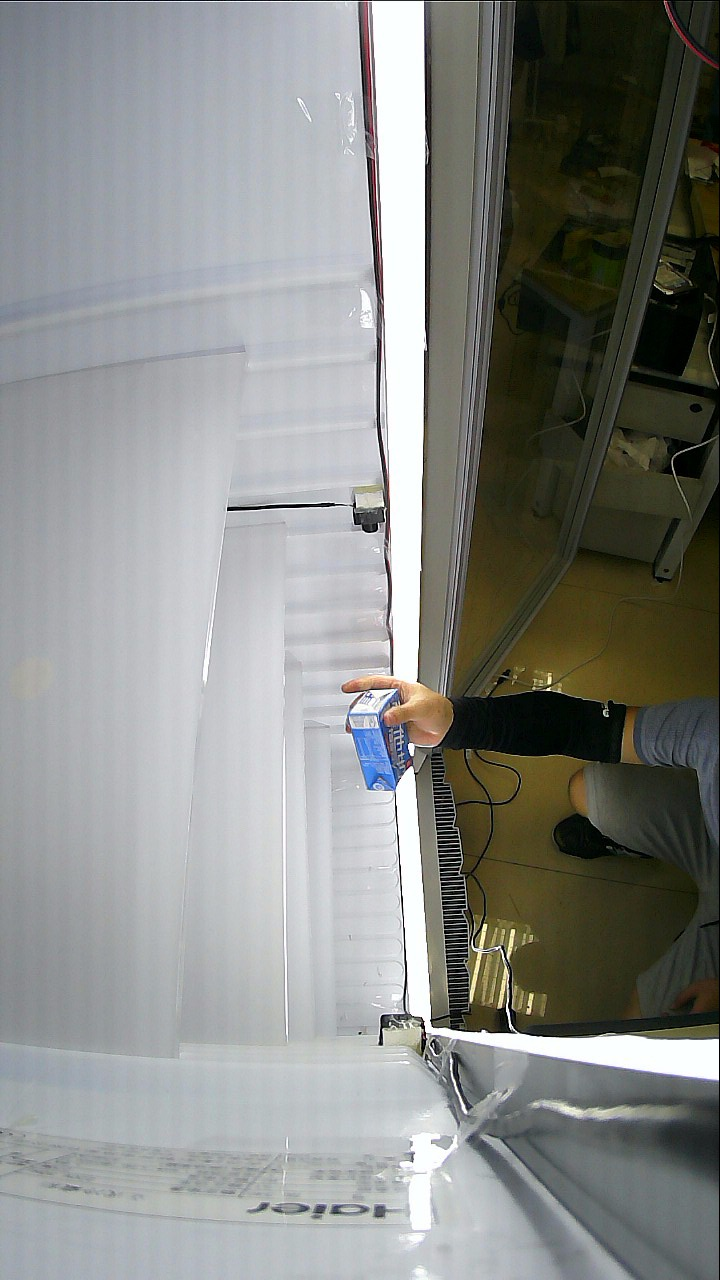VitaSoyOriginal: (346, 680, 499, 795)
